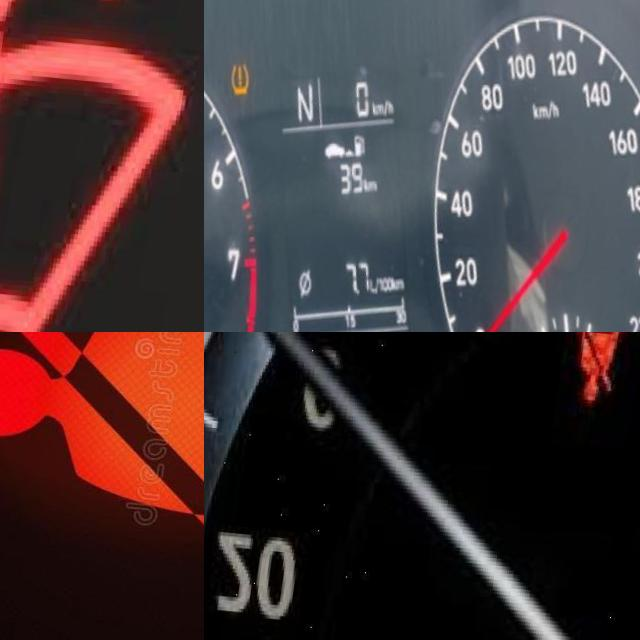Seat Belt: (0, 332, 204, 569), (561, 332, 638, 399)
Washer Fluid: (0, 0, 204, 332)
